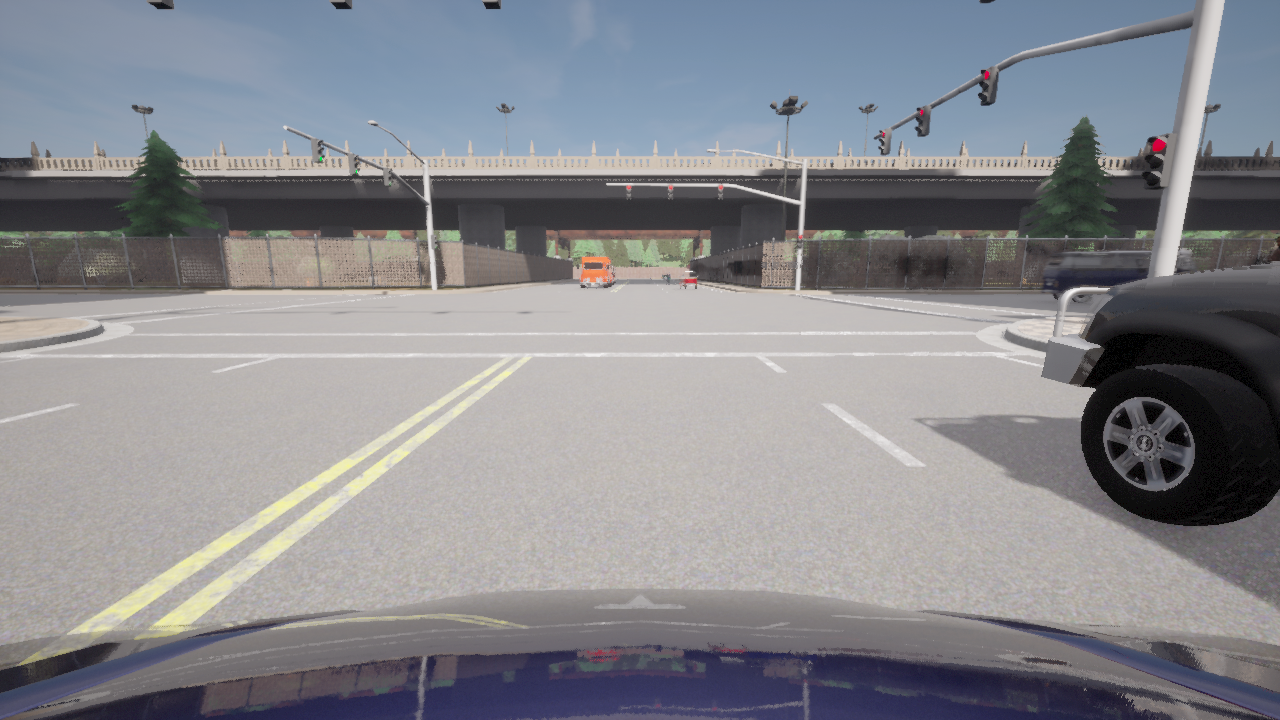cyclist: (0, 588, 1279, 719), (1040, 262, 1279, 526), (1040, 250, 1198, 303), (576, 257, 612, 288), (679, 271, 698, 290), (660, 272, 670, 281), (611, 265, 615, 284), (600, 284, 602, 285)
pedestrian: (1265, 237, 1279, 262), (298, 160, 300, 166)
